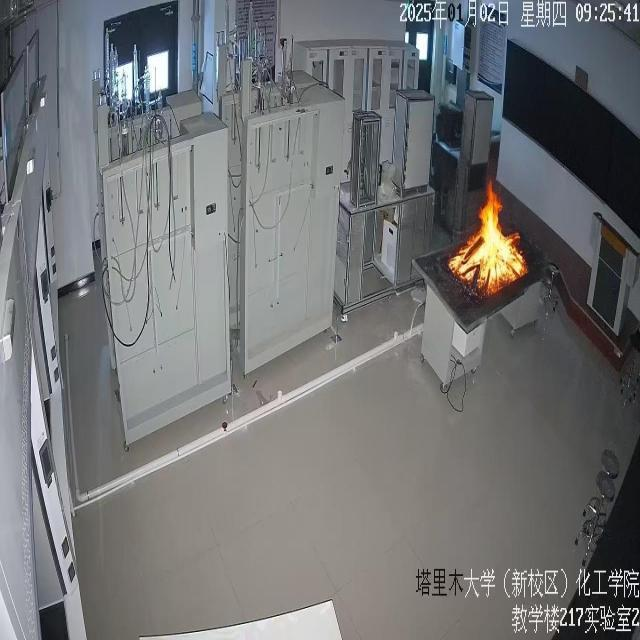smoke: (451, 175, 522, 292)
